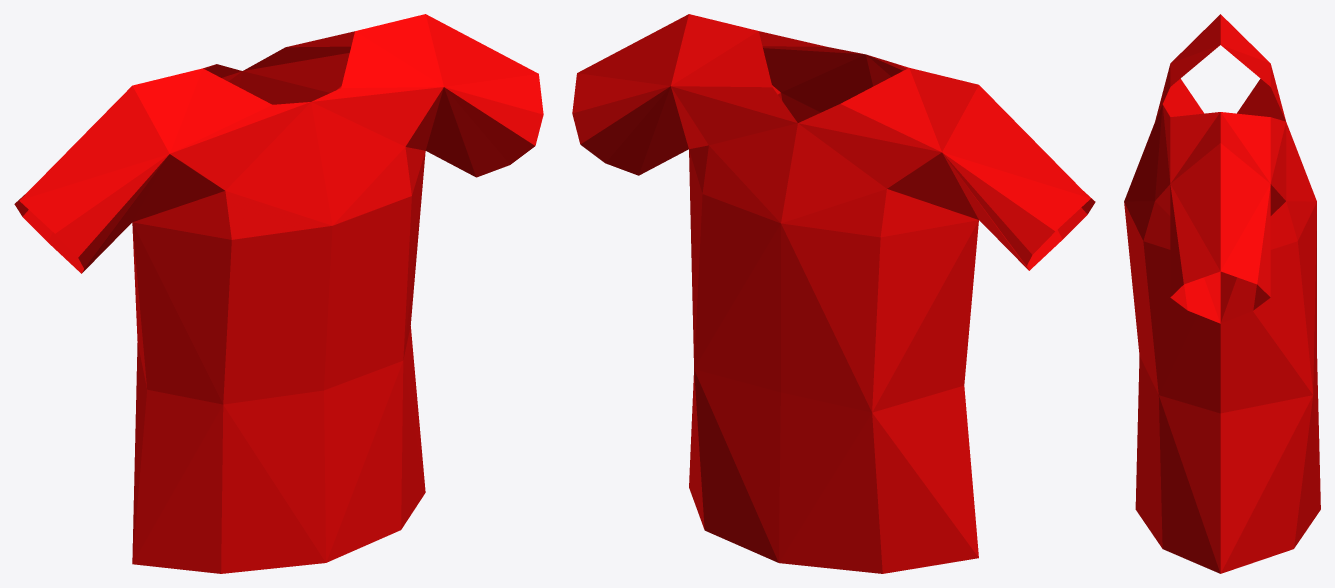
File: red_tshirt_nike.obj
The picture shows the model from 3 angles, left to right: view 1: azimuth 30°, elevation 25°; view 2: azimuth 150°, elevation 25°; view 3: azimuth 270°, elevation 25°; orthographic projection. The views are drawn at different scales.
Visible parts, largest first — view 1: Mesh1 Shirt1 Model; view 2: Mesh1 Shirt1 Model; view 3: Mesh1 Shirt1 Model.
Part boxes in pixels (x1=…): Mesh1 Shirt1 Model: x1=14, y1=14, x2=543, y2=573; Mesh1 Shirt1 Model: x1=572, y1=14, x2=1095, y2=573; Mesh1 Shirt1 Model: x1=1124, y1=14, x2=1320, y2=573.
Size of the model in its own units: 88.9 by 78.24 by 32.38.
